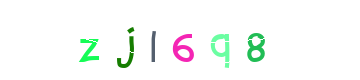6: (142, 0, 222, 80)
8: (166, 0, 246, 80)
J: (108, 0, 188, 80)
L: (139, 0, 219, 80)
Q: (143, 0, 223, 80)
Z: (87, 0, 167, 80)
